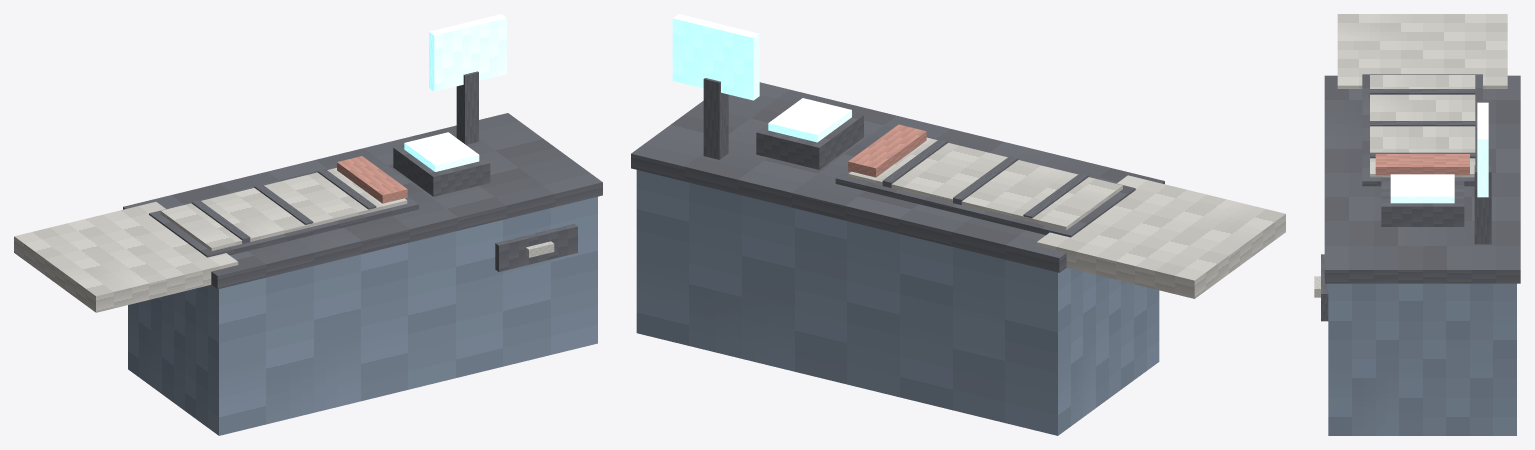
Rendered from checkout-lane.glb.
3 renders of one model, left to right at view 1: azimuth 30°, elevation 25°; view 2: azimuth 150°, elevation 25°; view 3: azimuth 270°, elevation 25°, orthographic. The views are drawn at different scales.
Parts seen in each view (by area): view 1: checkout-lane-belt, belt/white, drawer/charcoal, belt/charcoal; view 2: checkout-lane-belt, belt/white, belt/charcoal; view 3: checkout-lane-belt, belt/white, belt/charcoal, drawer/charcoal.
Boxes of the visible parts, x1=… form: checkout-lane-belt: x1=14, y1=14, x2=602, y2=435; belt/white: x1=160, y1=168, x2=407, y2=251; drawer/charcoal: x1=495, y1=224, x2=577, y2=271; belt/charcoal: x1=191, y1=169, x2=376, y2=243; checkout-lane-belt: x1=631, y1=14, x2=1285, y2=435; belt/white: x1=848, y1=137, x2=1122, y2=230; belt/charcoal: x1=882, y1=139, x2=1088, y2=218; checkout-lane-belt: x1=1324, y1=14, x2=1520, y2=435; belt/white: x1=1370, y1=75, x2=1475, y2=177; belt/charcoal: x1=1369, y1=89, x2=1475, y2=161; drawer/charcoal: x1=1321, y1=254, x2=1328, y2=321.
Bounding box in the file's own units: 3.17 × 1.68 × 1.09.
Materials: 5 (5 with a texture image).
